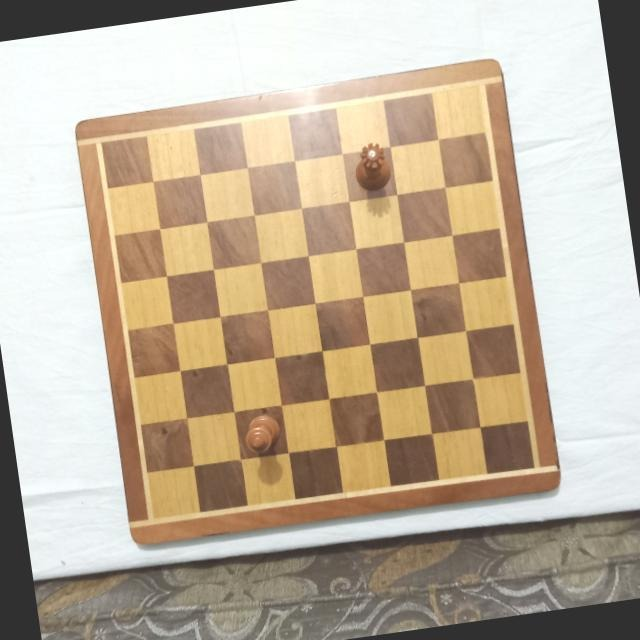white-king: (242, 411, 286, 456)
white-queen: (347, 138, 393, 194)
